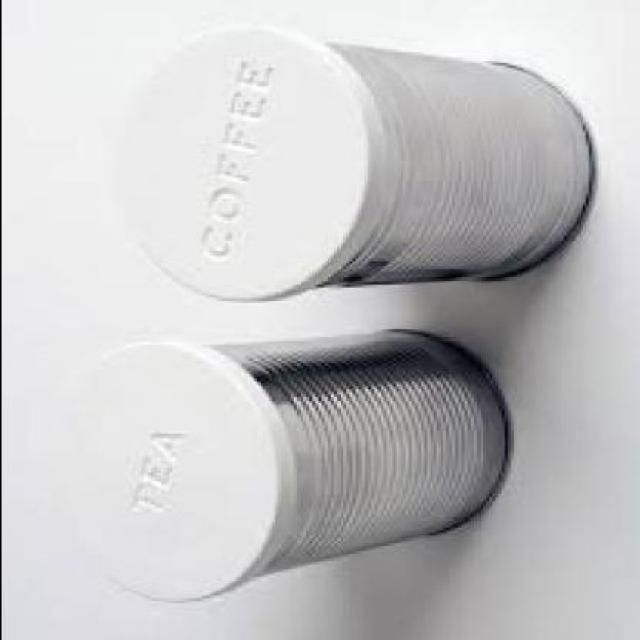METAL: (202, 330, 509, 582), (285, 42, 587, 295)
